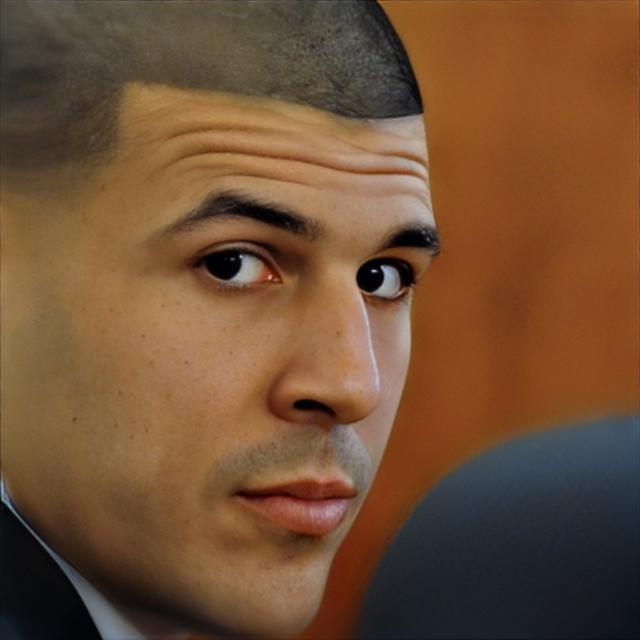surprise: (0, 64, 446, 640)
